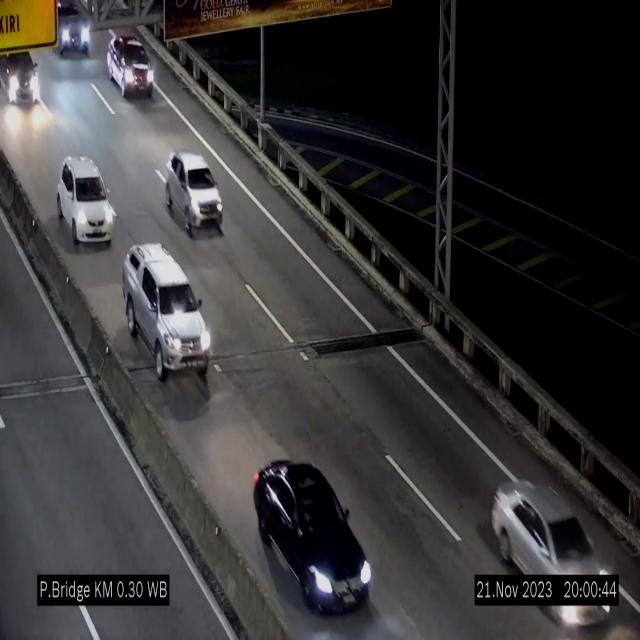Car: (252, 456, 372, 616), (492, 476, 612, 624), (123, 244, 211, 380), (57, 156, 114, 245), (167, 152, 223, 236), (0, 35, 46, 114), (50, 0, 100, 66), (107, 34, 154, 98)
